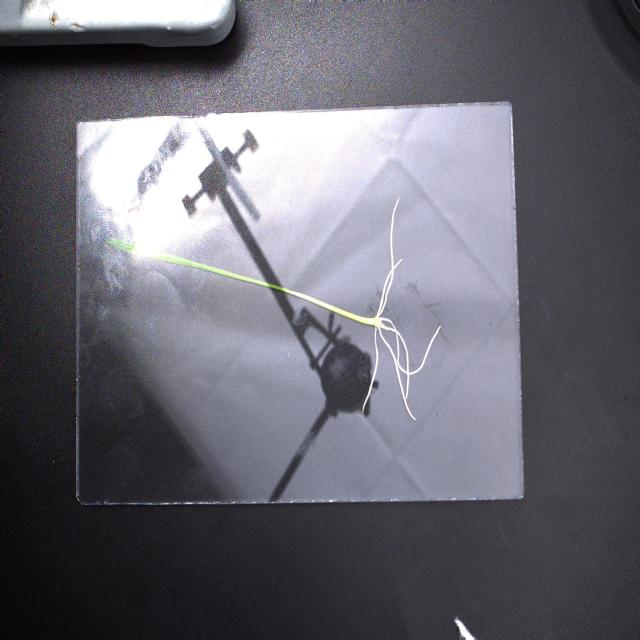leaf: (101, 230, 160, 258)
root: (362, 198, 441, 420)
stem: (107, 239, 377, 326)
